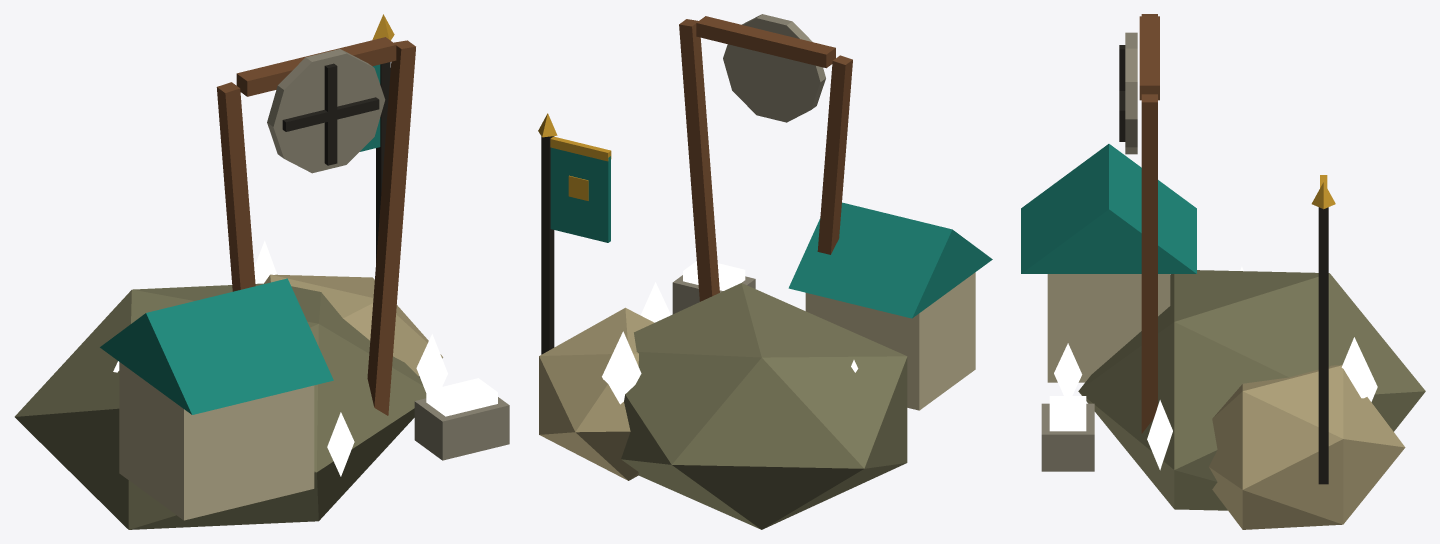
File: mine_t3.glb
3 renders of one model, left to right at view 1: azimuth 30°, elevation 25°; view 2: azimuth 150°, elevation 25°; view 3: azimuth 270°, elevation 25°, orthographic. The views are drawn at different scales.
Parts seen in each view (by area): view 1: body, part_rotor, glow; view 2: body, part_rotor, glow; view 3: body, glow, part_rotor.
Boxes of the visible parts, bbox=[...] form: body: bbox=[14, 14, 509, 529]; part_rotor: bbox=[267, 49, 385, 173]; glow: bbox=[113, 240, 497, 476]; body: bbox=[538, 16, 992, 529]; part_rotor: bbox=[723, 14, 825, 122]; glow: bbox=[602, 261, 858, 404]; body: bbox=[1021, 14, 1425, 529]; glow: bbox=[1049, 266, 1377, 470]; part_rotor: bbox=[1119, 32, 1137, 154].
Size of the model in its own units: 2.05 by 2.49 by 1.98.
